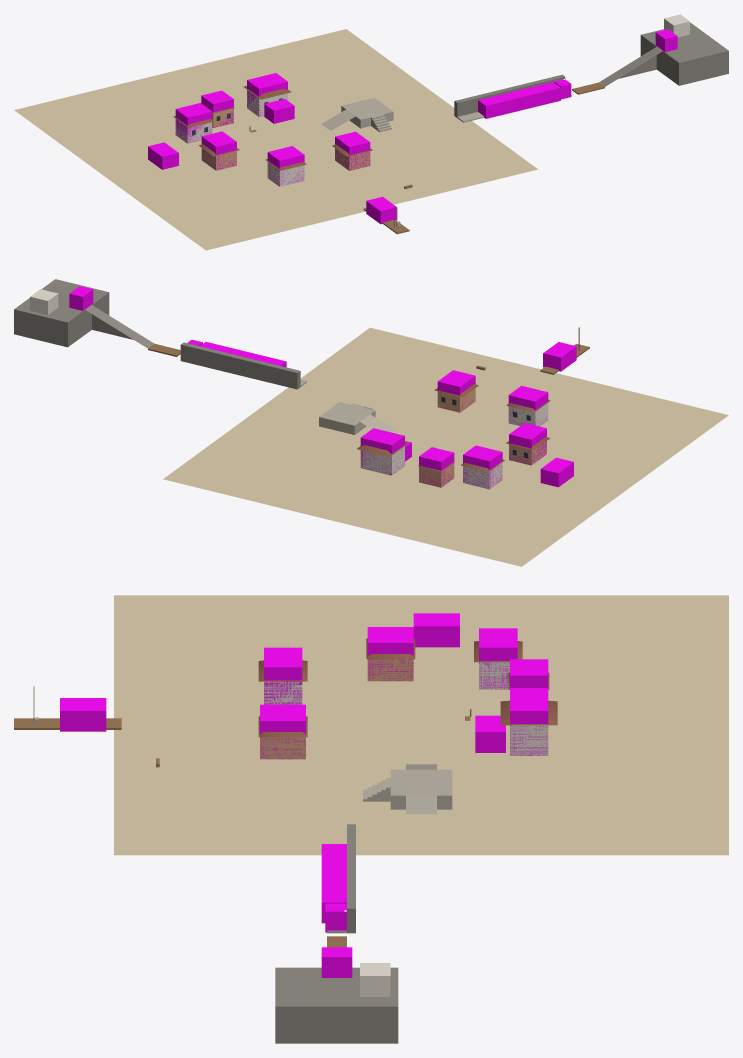
File: world_test.glb
3 views of the same model, one above another, from view 1: azimuth 30°, elevation 25°; view 2: azimuth 150°, elevation 25°; view 3: azimuth 270°, elevation 25° (orthographic). The views are drawn at different scales.
Parts seen in each view (by area): view 1: ground, hilltop, zone_wave, col_house_1, platform, storm_cliff, col_house_6, storm_slope, col_house_3, col_house_5, col_house_4, zone_street_end (+10 smaller); view 2: ground, hilltop, storm_cliff, platform, col_house_3, storm_slope, col_house_1, col_house_4, object 13, col_house_2, zone_street_end, col_house_5 (+10 smaller); view 3: ground, hilltop, platform, col_house_5, col_house_3, col_house_1, col_house_4, zone_street_end, col_house_6, zone_dock, zone_wave, object 13 (+10 smaller).
Part boxes in pixels (left/top/right/bottom): ground: left=14, top=29, right=537, bottom=250; hilltop: left=640, top=22, right=728, bottom=85; zone_wave: left=478, top=82, right=560, bottom=118; col_house_1: left=175, top=103, right=212, bottom=142; platform: left=341, top=97, right=393, bottom=128; storm_cliff: left=454, top=74, right=565, bottom=117; col_house_6: left=335, top=131, right=370, bottom=170; storm_slope: left=599, top=46, right=662, bottom=86; col_house_3: left=247, top=73, right=287, bottom=116; col_house_5: left=267, top=146, right=304, bottom=186; col_house_4: left=201, top=131, right=236, bottom=170; zone_street_end: left=148, top=142, right=178, bottom=169; ground: left=163, top=327, right=728, bottom=566; hilltop: left=14, top=279, right=109, bottom=347; storm_cliff: left=180, top=342, right=300, bottom=389; platform: left=319, top=402, right=375, bottom=434; col_house_3: left=360, top=428, right=404, bottom=474; storm_slope: left=85, top=305, right=154, bottom=348; col_house_1: left=463, top=445, right=502, bottom=488; col_house_4: left=509, top=423, right=546, bottom=465; object 13: left=360, top=446, right=404, bottom=475; col_house_2: left=419, top=447, right=454, bottom=486; zone_street_end: left=540, top=457, right=573, bottom=487; col_house_5: left=508, top=385, right=548, bottom=426; ground: left=114, top=595, right=728, bottom=855; hilltop: left=275, top=967, right=398, bottom=1043; platform: left=390, top=769, right=452, bottom=809; col_house_5: left=264, top=647, right=302, bottom=704; col_house_3: left=510, top=688, right=548, bottom=755; col_house_1: left=479, top=628, right=517, bottom=689; col_house_4: left=367, top=627, right=413, bottom=680; zone_street_end: left=413, top=613, right=459, bottom=647; col_house_6: left=260, top=704, right=305, bottom=759; zone_dock: left=60, top=698, right=106, bottom=731; zone_wave: left=321, top=844, right=346, bottom=923; object 13: left=510, top=725, right=548, bottom=755.
Size of what is drawn, in the model's own units: 138 by 8.3 by 93.
